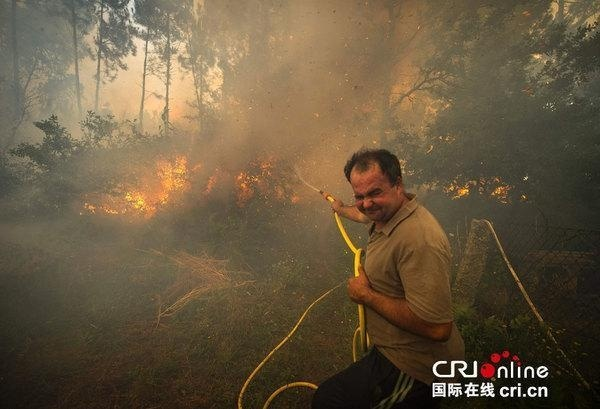fire: (78, 151, 200, 218)
